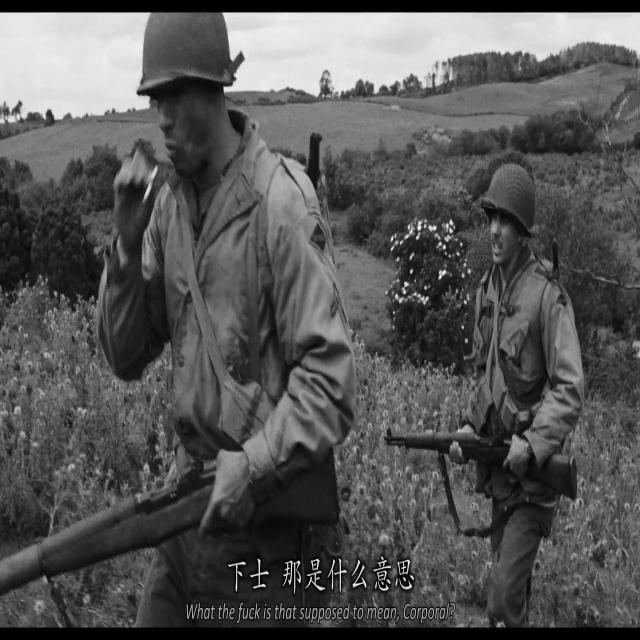Short-Gun: (0, 376, 350, 640), (361, 338, 598, 598)
